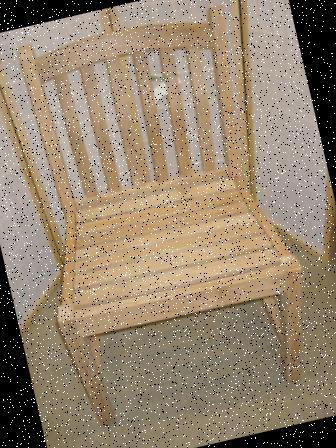Silla: (0, 0, 328, 431)
